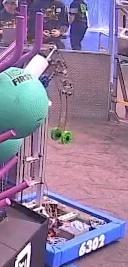blue_number: (76, 232, 107, 259)
